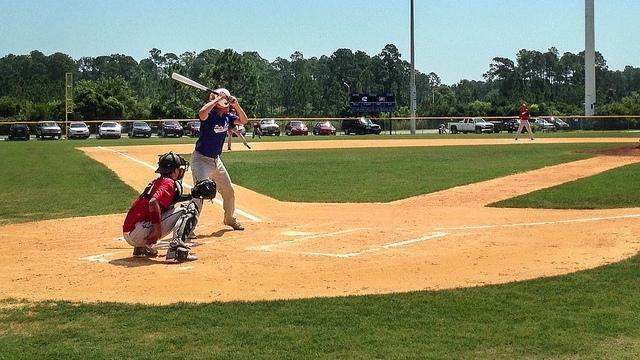car: (341, 117, 382, 134), (35, 121, 61, 139), (156, 122, 184, 138), (98, 122, 122, 139), (66, 123, 92, 138), (528, 118, 556, 131), (284, 121, 308, 136), (258, 120, 280, 136), (8, 124, 31, 139), (312, 122, 337, 135), (130, 122, 151, 137), (183, 122, 200, 138), (236, 124, 246, 136)
truck: (449, 117, 494, 134)
